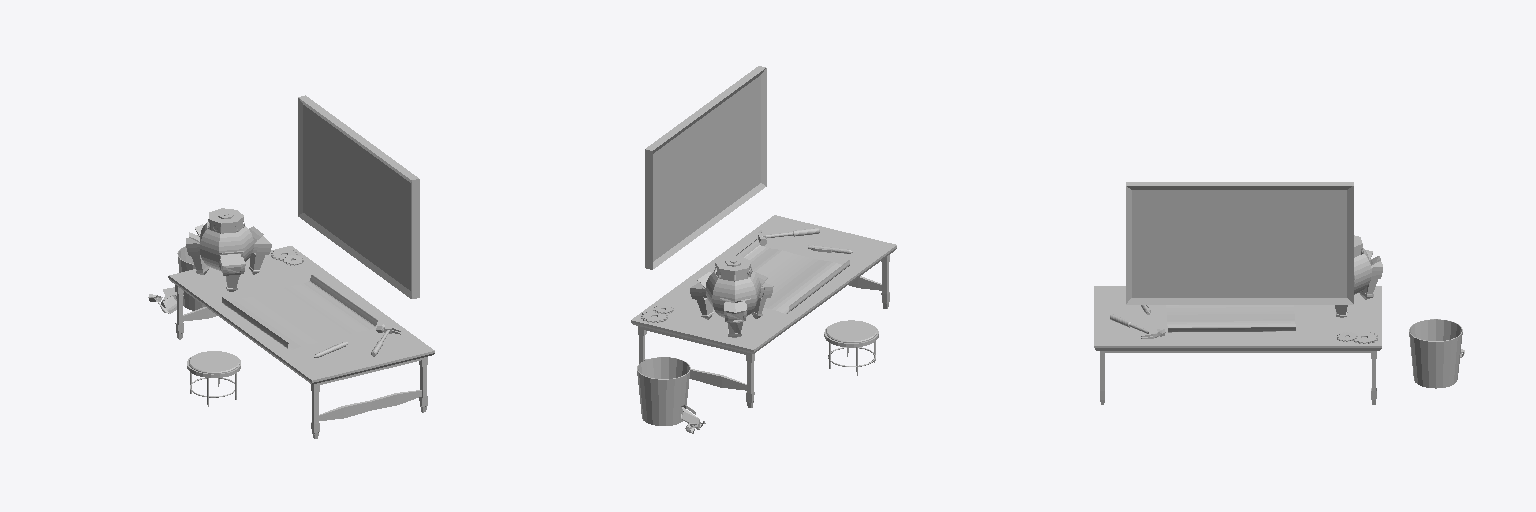
File: FinalModelFixed.obj
The picture shows the model from 3 angles: view 1: azimuth 30°, elevation 25°; view 2: azimuth 150°, elevation 25°; view 3: azimuth 270°, elevation 25°; orthographic projection.
Parts seen in each view (by area): view 1: pCube7, group1 tableTop, loftedSurface1, pCylinder35, pCube10, group3 pCylinder42, pCylinder43; view 2: pCube7, group1 tableTop, pCylinder35, loftedSurface1, pCylinder43, group3 pCylinder42, pCube9; view 3: pCube7, group1 tableTop, loftedSurface1, pCylinder43, pCylinder35, group1 tableTop4.
Part boxes in pixels (x1,y1,x2,y2): pCube7: (298,95,419,298); group1 tableTop: (168,246,434,384); loftedSurface1: (222,275,377,349); pCylinder35: (186,208,271,291); pCube10: (319,390,421,420); group3 pCylinder42: (189,351,239,373); pCylinder43: (177,246,204,310); pCube7: (645,66,766,269); group1 tableTop: (631,215,896,353); pCylinder35: (690,256,773,337); loftedSurface1: (736,239,849,313); pCylinder43: (637,357,690,425); group3 pCylinder42: (826,320,876,342); pCube9: (644,359,746,390); pCube7: (1126,182,1353,304); group1 tableTop: (1094,286,1381,350); loftedSurface1: (1166,305,1295,332); pCylinder43: (1409,319,1462,388); pCylinder35: (1335,235,1382,317); group1 tableTop4: (1105,351,1370,352).
Bounding box in the file's own units: 3.4 × 4.23 × 6.32.